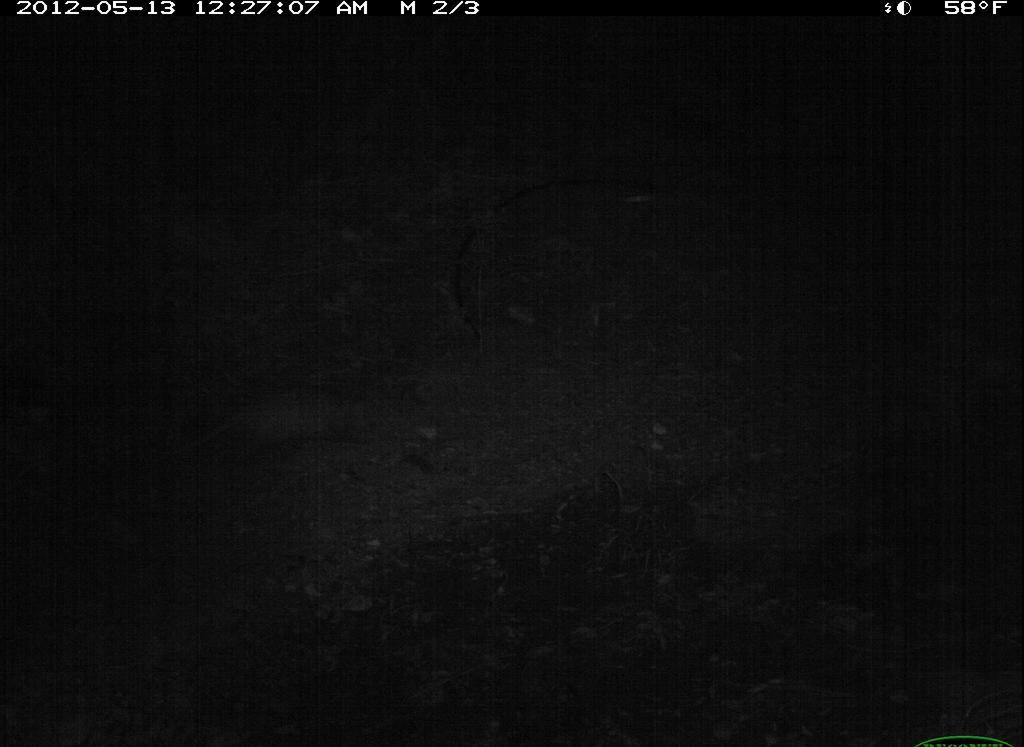opossum: (145, 370, 378, 488)
